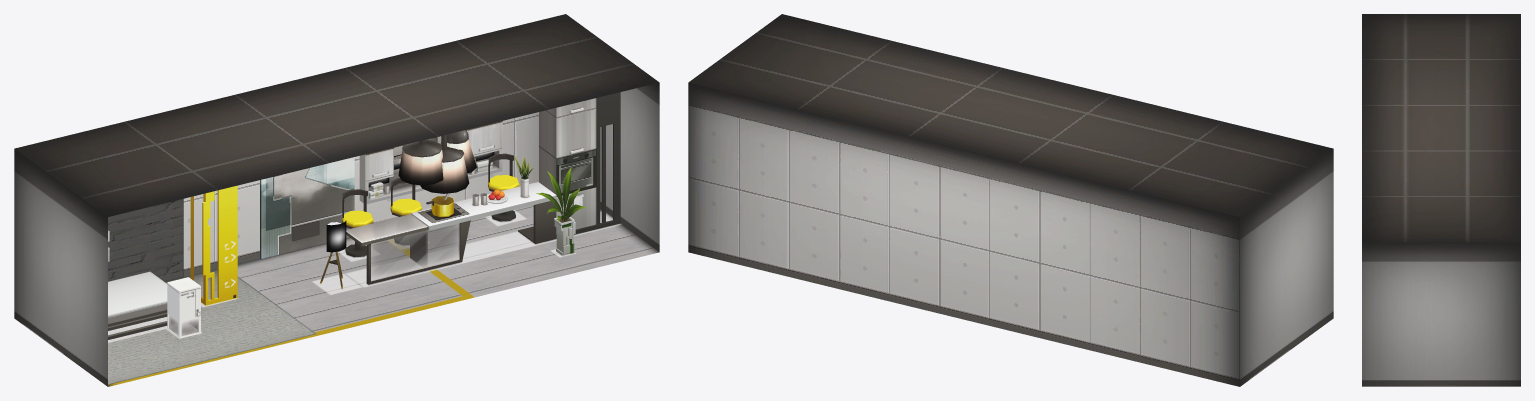
The model's file is kitchen.glb.
3 renders of one model, left to right at view 1: azimuth 30°, elevation 25°; view 2: azimuth 150°, elevation 25°; view 3: azimuth 270°, elevation 25°, orthographic. The views are drawn at different scales.
Parts seen in each view (by area): view 1: ROOM_room, ROOM_floor, furni_kitchen_carpet_01, furni_kitchen_oven_01, furni_kitchen_islandWorktop_01, furni_kitchen_wallArt_01, furni_kitchen_wallSticker_01, furni_kitchen_partition_01, furni_kitchen_worktop_01, furni_kitchen_islandWorktop_02, furni_kitchen_bed_01, furni_kitchen_ceilingLamps_light01 (+12 smaller); view 2: ROOM_room, ROOM_LDoor; view 3: ROOM_room, ROOM_RDoor.
Part boxes in pixels (x1=…): ROOM_room: x1=14, y1=14, x2=659, y2=386; ROOM_floor: x1=108, y1=205, x2=659, y2=386; furni_kitchen_carpet_01: x1=108, y1=270, x2=315, y2=384; furni_kitchen_oven_01: x1=539, y1=92, x2=620, y2=239; furni_kitchen_islandWorktop_01: x1=346, y1=176, x2=556, y2=285; furni_kitchen_wallArt_01: x1=260, y1=157, x2=354, y2=259; furni_kitchen_wallSticker_01: x1=108, y1=199, x2=183, y2=281; furni_kitchen_partition_01: x1=190, y1=185, x2=237, y2=305; furni_kitchen_worktop_01: x1=359, y1=121, x2=502, y2=203; furni_kitchen_islandWorktop_02: x1=371, y1=223, x2=459, y2=281; furni_kitchen_bed_01: x1=108, y1=271, x2=167, y2=339; furni_kitchen_ceilingLamps_light01: x1=398, y1=139, x2=476, y2=193; ROOM_room: x1=688, y1=14, x2=1333, y2=386; ROOM_LDoor: x1=1300, y1=251, x2=1319, y2=341; ROOM_room: x1=1362, y1=14, x2=1520, y2=386; ROOM_RDoor: x1=1385, y1=321, x2=1417, y2=386.
Size of the model in its own units: 7.58 by 2.2 by 2.2.
Materials: 9 (9 with a texture image).
